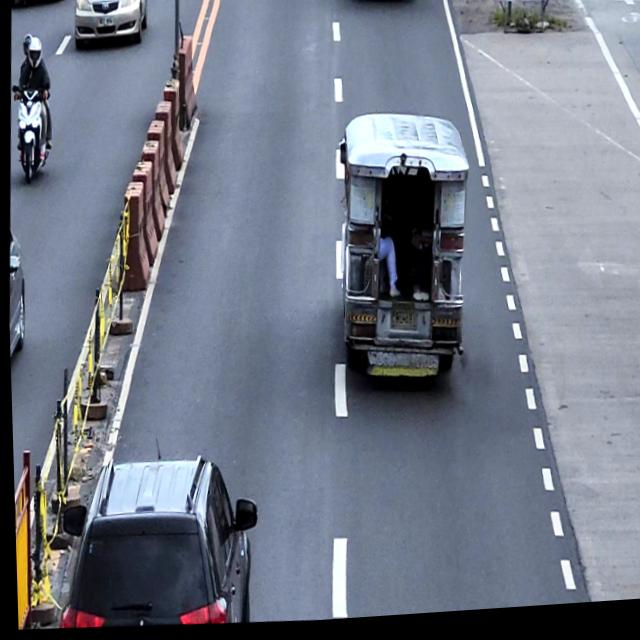Car: (50, 448, 258, 635), (71, 0, 148, 53), (5, 226, 26, 362)
Jeep: (325, 110, 475, 391)
License-Plate: (385, 311, 416, 340), (96, 17, 115, 30)
Motorcycle: (7, 80, 53, 185)
